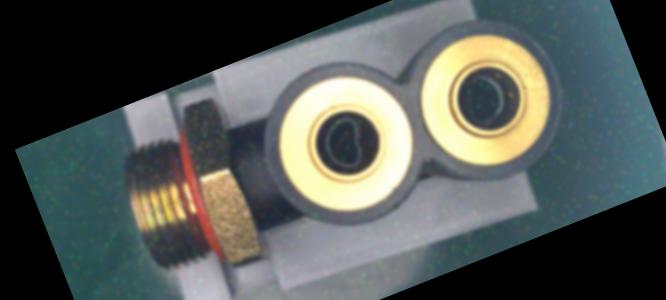off-centered: (449, 63, 518, 134), (311, 109, 379, 175)
